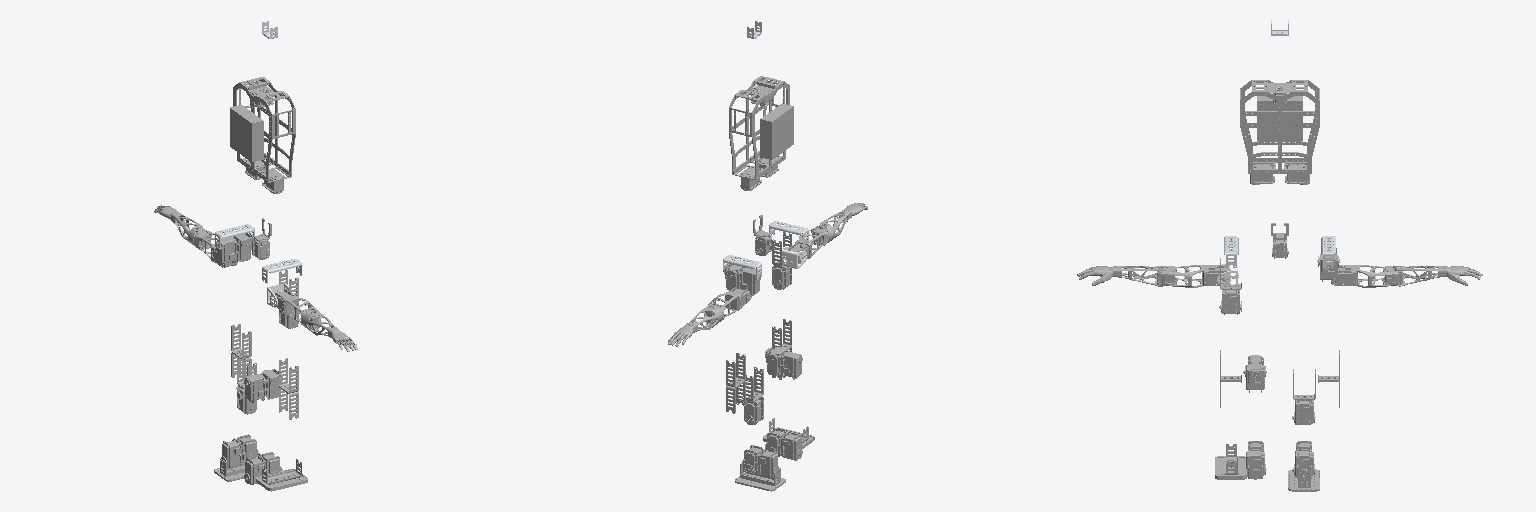
--- Render facts (derived) ---
3 views of the same robot in one strip: view 1: azimuth 30°, elevation 25°; view 2: azimuth 150°, elevation 25°; view 3: azimuth 270°, elevation 25° (orthographic).
Model humanoid with 26 links and 25 joints (12 revolute, 13 fixed), rooted at base_link, posed all joints at 0.
Visible links, largest first — view 1: torso, leg_r_hip_r, leg_l_ankle_p, leg_l_hip_r, leg_r_knee, leg_r_ankle_r, arm_r_elbow, leg_r_ankle_p, arm_r_shou_r, leg_l_knee, leg_l_hip_p, arm_l_elbow; view 2: torso, leg_r_hip_r, leg_l_knee, leg_l_ankle_p, leg_l_hip_p, leg_r_ankle_p, leg_l_hip_r, leg_r_hip_p, arm_l_elbow, arm_l_shou_r, leg_l_ankle_r, arm_r_elbow (+1 smaller); view 3: torso, arm_l_shou_r, arm_r_shou_r, arm_r_elbow, arm_l_elbow, leg_r_ankle_r, leg_r_ankle_p, leg_l_hip_p, leg_r_hip_r, leg_l_ankle_p, leg_r_hip_p, leg_l_ankle_r.
Boxes of the visible links, box(x1,y1,x2,y2) form: torso: box(230, 77, 295, 193); leg_r_hip_r: box(244, 369, 282, 402); leg_l_ankle_p: box(221, 434, 258, 467); leg_l_hip_r: box(216, 233, 253, 265); leg_r_knee: box(279, 358, 298, 419); leg_r_ankle_r: box(256, 459, 307, 491); arm_r_elbow: box(302, 311, 357, 351); leg_r_ankle_p: box(244, 452, 282, 484); arm_r_shou_r: box(274, 290, 320, 329); leg_l_knee: box(231, 324, 251, 378); leg_l_hip_p: box(236, 355, 256, 414); arm_l_elbow: box(154, 205, 203, 244); torso: box(729, 76, 793, 190); leg_r_hip_r: box(765, 347, 802, 379); leg_l_knee: box(726, 353, 745, 413); leg_l_ankle_p: box(741, 445, 778, 477); leg_l_hip_p: box(744, 367, 763, 424); leg_r_ankle_p: box(765, 428, 802, 460); leg_l_hip_r: box(723, 264, 760, 295); leg_r_hip_p: box(772, 232, 791, 289); arm_l_elbow: box(668, 306, 722, 346); arm_l_shou_r: box(704, 287, 751, 324); leg_l_ankle_r: box(735, 463, 785, 491); arm_r_elbow: box(819, 203, 867, 242); torso: box(1240, 80, 1319, 184); arm_l_shou_r: box(1331, 265, 1402, 287); arm_r_shou_r: box(1157, 265, 1228, 287); arm_r_elbow: box(1077, 266, 1166, 286); arm_l_elbow: box(1393, 266, 1482, 286); leg_r_ankle_r: box(1215, 444, 1246, 479); leg_r_ankle_p: box(1245, 441, 1266, 479); leg_l_hip_p: box(1292, 369, 1315, 424); leg_r_hip_r: box(1243, 355, 1266, 392); leg_l_ankle_p: box(1292, 441, 1315, 478); leg_r_hip_p: box(1219, 258, 1241, 314); leg_l_ankle_r: box(1288, 469, 1319, 491).
Bounding box of the posed robot: 0.14 × 1.02 × 1.3 m (x, y, z).
20 mesh visuals loaded from 21 distinct referenced files (20 binary STL); not drawn: 1 (reference not matched to a file when rendering).

The robot description file, URDF, robot "humanoid":
<robot
  name="humanoid">
  <link name="base_link"/>
  <joint name="waist" type="fixed">
    <parent link="base_link"/>
    <child link="torso"/>
    <origin rpy="0 0 0" xyz="0.0235271 0 0.48467"/>
  </joint>
  <link name="torso">
    <inertial>
      <origin
        xyz="-0.0273890624666731 -6.24390539272213E-11 0.0090874604275595"
        rpy="0 0 0" />
      <mass
        value="1.79837714981727" />
      <inertia
        ixx="0.00965569591913053"
        ixy="2.62519057565357E-11"
        ixz="0.000466515313675841"
        iyy="0.00841839017045047"
        iyz="1.1590569581039E-11"
        izz="0.00428669058417288" />
    </inertial>
    <visual>
      <origin
        xyz="0 0 0"
        rpy="0 0 0" />
      <geometry>
        <mesh
          filename="package://meshes/torso.STL" />
      </geometry>
      <material
        name="">
        <color
          rgba="0.752941176470588 0.752941176470588 0.752941176470588 1" />
      </material>
    </visual>
    <collision>
      <origin
        xyz="0 0 0"
        rpy="0 0 0" />
      <geometry>
        <mesh
          filename="package://meshes/torso.STL" />
      </geometry>
    </collision>
  </link>
  <link
    name="head_p">
    <inertial>
      <origin
        xyz="-2.77555756156289E-17 -2.77555756156289E-17 -0.0235358644573578"
        rpy="0 0 0" />
      <mass
        value="0.00919745164566107" />
      <inertia
        ixx="0"
        ixy="0"
        ixz="0"
        iyy="0"
        iyz="0"
        izz="0" />
    </inertial>
    <visual>
      <origin
        xyz="0 0 0"
        rpy="0 0 0" />
      <geometry>
        <mesh
          filename="package://meshes/head_p.STL" />
      </geometry>
      <material
        name="">
        <color
          rgba="0.898039215686275 0.917647058823529 0.929411764705882 1" />
      </material>
    </visual>
    <collision>
      <origin
        xyz="0 0 0"
        rpy="0 0 0" />
      <geometry>
        <mesh
          filename="package://meshes/head_p.STL" />
      </geometry>
    </collision>
  </link>
  <joint
    name="j_head_p"
    type="fixed">
    <origin
      xyz="0.00749999999999998 0 0.154592980337507"
      rpy="-5.40227318867849E-16 3.26570417148563E-16 1.11022302462516E-16" />
    <parent
      link="torso" />
    <child
      link="head_p" />
  </joint>
  <link
    name="head_t">
    <inertial>
      <origin
        xyz="0.000362537622920212 6.79783928278499E-06 0.0434079674333546"
        rpy="0 0 0" />
      <mass
        value="0.250310857747946" />
      <inertia
        ixx="0.000109893254796935"
        ixy="6.15726205395829E-10"
        ixz="-1.29430349863509E-06"
        iyy="0.000109000514641629"
        iyz="9.79402169676494E-08"
        izz="9.33135190800592E-07" />
    </inertial>
    <visual>
      <origin
        xyz="0 0 0"
        rpy="0 0 0" />
      <geometry>
        <mesh
          filename="package://meshes/head_t.STL" />
      </geometry>
      <material
        name="">
        <color
          rgba="0.752941176470588 0.752941176470588 0.752941176470588 1" />
      </material>
    </visual>
    <collision>
      <origin
        xyz="0 0 0"
        rpy="0 0 0" />
      <geometry>
        <mesh
          filename="package://meshes/head_t.STL" />
      </geometry>
    </collision>
  </link>
  <joint
    name="j_head_t"
    type="fixed">
    <origin
      xyz="0 -0.000250000000004302 0"
      rpy="1.98830324825673E-16 -4.37592719611079E-16 -1.11022302462516E-16" />
    <parent
      link="head_p" />
    <child
      link="head_t" />
  </joint>
  <link
    name="leg_r_hip_y">
    <inertial>
      <origin
        xyz="-0.019 6.93889390390723E-18 0.0296849328442002"
        rpy="0 0 0" />
      <mass
        value="0.0310306790400135" />
      <inertia
        ixx="0"
        ixy="0"
        ixz="0"
        iyy="0"
        iyz="0"
        izz="0" />
    </inertial>
    <visual>
      <origin
        xyz="0 0 0"
        rpy="0 0 0" />
      <geometry>
        <mesh
          filename="package://meshes/leg_r_hip_y.STL" />
      </geometry>
      <material
        name="">
        <color
          rgba="0.898039215686275 0.917647058823529 0.929411764705882 1" />
      </material>
    </visual>
    <collision>
      <origin
        xyz="0 0 0"
        rpy="0 0 0" />
      <geometry>
        <mesh
          filename="package://meshes/leg_r_hip_y.STL" />
      </geometry>
    </collision>
  </link>
  <joint
    name="j_leg_r_hip_y"
    type="revolute">
    <origin
      xyz="0 -0.0612500000000002 -0.179371019662496"
      rpy="-3.41396994042176E-16 0 0" />
    <parent
      link="torso" />
    <child
      link="leg_r_hip_y" />
    <axis
      xyz="0 0 -1" />
    <limit effort="6.0" lower="-1.05" upper="1.05" velocity="1.5"/>
  </joint>
  <link
    name="leg_r_hip_r">
    <inertial>
      <origin
        xyz="-0.0199386693707081 8.18688971842077E-05 -0.0148029204359108"
        rpy="0 0 0" />
      <mass
        value="0.327163601832517" />
      <inertia
        ixx="7.62597114711917E-06"
        ixy="-5.58485632325043E-07"
        ixz="-1.06787629028062E-05"
        iyy="0.000186208035995009"
        iyz="-1.51343454864388E-06"
        izz="0.000185497003559403" />
    </inertial>
    <visual>
      <origin
        xyz="0 0 0"
        rpy="0 0 0" />
      <geometry>
        <mesh
          filename="package://meshes/leg_r_hip_r.STL" />
      </geometry>
      <material
        name="">
        <color
          rgba="0.752941176470588 0.752941176470588 0.752941176470588 1" />
      </material>
    </visual>
    <collision>
      <origin
        xyz="0 0 0"
        rpy="0 0 0" />
      <geometry>
        <mesh
          filename="package://meshes/leg_r_hip_r.STL" />
      </geometry>
    </collision>
  </link>
  <joint
    name="j_leg_r_hip_r"
    type="revolute">
    <origin
      xyz="0.000499999999999945 0 0"
      rpy="1.13124042283043E-16 -2.61242557992875E-16 6.50156804127527E-17" />
    <parent
      link="leg_r_hip_y" />
    <child
      link="leg_r_hip_r" />
    <axis
      xyz="1 0 0" />
    <limit effort="8.4" lower="-1.05" upper="1.05" velocity="1.5"/> 
  </joint>
  <link
    name="leg_r_hip_p">
    <inertial>
      <origin
        xyz="-4.73613010784357E-05 0.000146666146782187 -0.10142537495828"
        rpy="0 0 0" />
      <mass
        value="0.187828254323874" />
      <inertia
        ixx="9.89657264075222E-05"
        ixy="-1.56062320516749E-09"
        ixz="2.1852497720039E-07"
        iyy="9.65248837003217E-05"
        iyz="1.78170551469187E-06"
        izz="2.45902731639314E-06" />
    </inertial>
    <visual>
      <origin
        xyz="0 0 0"
        rpy="0 0 0" />
      <geometry>
        <mesh
          filename="package://meshes/leg_r_hip_p.STL" />
      </geometry>
      <material
        name="">
        <color
          rgba="0.752941176470588 0.752941176470588 0.752941176470588 1" />
      </material>
    </visual>
    <collision>
      <origin
        xyz="0 0 0"
        rpy="0 0 0" />
      <geometry>
        <mesh
          filename="package://meshes/leg_r_hip_p.STL" />
      </geometry>
    </collision>
  </link>
  <joint
    name="j_leg_r_hip_p"
    type="revolute">
    <origin
      xyz="0 0 0"
      rpy="-1.13124042283043E-16 2.15500304946813E-16 -1.04264380931413E-17" />
    <parent
      link="leg_r_hip_r" />
    <child
      link="leg_r_hip_p" />
    <axis
      xyz="0 1 0" />
    <limit effort="8.4" lower="-1.57" upper="1.57" velocity="1.5"/>
  </joint>
  <link
    name="leg_r_knee">
    <inertial>
      <origin
        xyz="6.10622663543836E-16 4.16333634234434E-17 -0.0720000000000057"
        rpy="0 0 0" />
      <mass
        value="0.0471244364483381" />
      <inertia
        ixx="3.47240331970278E-05"
        ixy="2.08114259181133E-24"
        ixz="6.38005899850245E-21"
        iyy="3.47240295022833E-05"
        iyz="-1.13268007040326E-08"
        izz="3.69474441842752E-12" />
    </inertial>
    <visual>
      <origin
        xyz="0 0 0"
        rpy="0 0 0" />
      <geometry>
        <mesh
          filename="package://meshes/leg_r_knee.STL" />
      </geometry>
      <material
        name="">
        <color
          rgba="0.752941176470588 0.752941176470588 0.752941176470588 1" />
      </material>
    </visual>
    <collision>
      <origin
        xyz="0 0 0"
        rpy="0 0 0" />
      <geometry>
        <mesh
          filename="package://meshes/leg_r_knee.STL" />
      </geometry>
    </collision>
  </link>
  <joint
    name="j_leg_r_knee"
    type="revolute">
    <origin
      xyz="0 0 -0.12650000000002"
      rpy="-1.66533453693773E-16 -2.81587712202917E-16 4.90950377141293E-16" />
    <parent
      link="leg_r_hip_p" />
    <child
      link="leg_r_knee" />
    <axis
      xyz="0 1 0" />
    <limit effort="8.4" lower="-1.57" upper="1.57" velocity="1.5"/>
  </joint>
  <link
    name="leg_r_ankle_p">
    <inertial>
      <origin
        xyz="-0.019967775832417 8.5312065049449E-05 0.0148115624874952"
        rpy="0 0 0" />
      <mass
        value="0.326972712808706" />
      <inertia
        ixx="7.58393095523023E-06"
        ixy="-5.32557584809135E-07"
        ixz="1.05552686931231E-05"
        iyy="0.00018575582149946"
        iyz="1.51216245176916E-06"
        izz="0.000185086455382627" />
    </inertial>
    <visual>
      <origin
        xyz="0 0 0"
        rpy="0 0 0" />
      <geometry>
        <mesh
          filename="package://meshes/leg_r_ankle_p.STL" />
      </geometry>
      <material
        name="">
        <color
          rgba="0.752941176470588 0.752941176470588 0.752941176470588 1" />
      </material>
    </visual>
    <collision>
      <origin
        xyz="0 0 0"
        rpy="0 0 0" />
      <geometry>
        <mesh
          filename="package://meshes/leg_r_ankle_p.STL" />
      </geometry>
    </collision>
  </link>
  <joint
    name="j_leg_r_ankle_p"
    type="revolute">
    <origin
      xyz="0 0 -0.144000000000011"
      rpy="2.77555756156288E-17 9.37952628792816E-16 -4.34517316998388E-16" />
    <parent
      link="leg_r_knee" />
    <child
      link="leg_r_ankle_p" />
    <axis
      xyz="0 -1 0" />
    <limit effort="8.4" lower="-1.57" upper="1.57" velocity="1.5"/>
  </joint>
  <link
    name="leg_r_ankle_r">
    <inertial>
      <origin
        xyz="-0.0195052351132241 2.08166817117217E-17 -0.035336618625496"
        rpy="0 0 0" />
      <mass
        value="0.08603420971545" />
      <inertia
        ixx="1.55034338934218E-06"
        ixy="1.67488937898155E-23"
        ixz="-1.4360711995626E-09"
        iyy="1.55034471956392E-06"
        iyz="1.80816499723242E-20"
        izz="1.33022174596314E-12" />
    </inertial>
    <visual>
      <origin
        xyz="0 0 0"
        rpy="0 0 0" />
      <geometry>
        <mesh
          filename="package://meshes/leg_r_ankle_r.STL" />
      </geometry>
      <material
        name="">
        <color
          rgba="0.752941176470588 0.752941176470588 0.752941176470588 1" />
      </material>
    </visual>
    <collision>
      <origin
        xyz="0 0 0"
        rpy="0 0 0" />
      <geometry>
        <mesh
          filename="package://meshes/leg_r_ankle_r.STL" />
      </geometry>
    </collision>
  </link>
  <joint
    name="j_leg_r_ankle_r"
    type="revolute">
    <origin
      xyz="0 0 0"
      rpy="2.4980018054066E-16 -1.39663998698079E-15 -5.70601140040284E-17" />
    <parent
      link="leg_r_ankle_p" />
    <child
      link="leg_r_ankle_r" />
    <axis
      xyz="-1 0 0" />
    <limit effort="8.4" lower="-1.57" upper="1.57" velocity="1.5"/>
  </joint>

  <link
    name="leg_r_foot">
    <inertial>
      <origin
        xyz="0 0 0"
        rpy="0 0 0" />
      <mass
        value="0" />
      <inertia
        ixx="0"
        ixy="0"
        ixz="0"
        iyy="0"
        iyz="0"
        izz="0" />
    </inertial>
  </link>
  <joint
    name="j_leg_r_foot"
    type="fixed">
    <origin
      xyz="-0.0195 0 -0.044"
      rpy="0 0 0" />
    <parent
      link="leg_r_ankle_r" />
    <child
      link="leg_r_foot" />
  </joint>

  <link
    name="leg_l_hip_y">
    <inertial>
      <origin
        xyz="-0.019 0 0.0296849328442002"
        rpy="0 0 0" />
      <mass
        value="0.0310306790400135" />
      <inertia
        ixx="0"
        ixy="0"
        ixz="0"
        iyy="0"
        iyz="0"
        izz="0" />
    </inertial>
    <visual>
      <origin
        xyz="0 0 0"
        rpy="0 0 0" />
      <geometry>
        <mesh
          filename="package://meshes/leg_l_hip_y.STL" />
      </geometry>
      <material
        name="">
        <color
          rgba="0.898039215686275 0.917647058823529 0.929411764705882 1" />
      </material>
    </visual>
    <collision>
      <origin
        xyz="0 0 0"
        rpy="0 0 0" />
      <geometry>
        <mesh
          filename="package://meshes/leg_l_hip_y.STL" />
      </geometry>
    </collision>
  </link>
  <joint
    name="j_leg_l_hip_y"
    type="revolute">
    <origin
      xyz="0 0.06125 -0.179371019662496"
      rpy="-3.41725588386687E-16 1.40441582496151E-19 -4.79463341027122E-35" />
    <parent
      link="torso" />
    <child
      link="leg_l_hip_y" />
    <axis
      xyz="0 0 -1" />
    <limit effort="6.0" lower="-1.57" upper="1.57" velocity="1.5"/>
  </joint>
  <link
    name="leg_l_hip_r">
    <inertial>
      <origin
        xyz="-0.0199386693707081 8.18688971842285E-05 -0.0148029204359109"
        rpy="0 0 0" />
      <mass
        value="0.327163601832517" />
      <inertia
        ixx="7.62597114711925E-06"
        ixy="-5.58485632324876E-07"
        ixz="-1.06787629028065E-05"
        iyy="0.00018620803599501"
        iyz="-1.51343454864386E-06"
        izz="0.000185497003559403" />
    </inertial>
    <visual>
      <origin
        xyz="0 0 0"
        rpy="0 0 0" />
      <geometry>
        <mesh
          filename="package://meshes/leg_l_hip_r.STL" />
      </geometry>
      <material
        name="">
        <color
          rgba="0.752941176470588 0.752941176470588 0.752941176470588 1" />
      </material>
    </visual>
    <collision>
      <origin
        xyz="0 0 0"
        rpy="0 0 0" />
      <geometry>
        <mesh
          filename="package://meshes/leg_l_hip_r.STL" />
      </geometry>
    </collision>
  </link>
  <joint
    name="j_leg_l_hip_r"
    type="revolute">
    <origin
      xyz="0.000499999999999973 0 0"
      rpy="1.06513742723647E-16 -2.61266749644178E-16 5.93124751222884E-17" />
    <parent
      link="leg_l_hip_y" />
    <child
      link="leg_l_hip_r" />
    <axis
      xyz="1 0 0" />
    <limit effort="8.4" lower="-1.57" upper="1.57" velocity="1.5"/>
  </joint>
  <link
    name="leg_l_hip_p">
    <inertial>
      <origin
        xyz="-4.73613010784357E-05 0.00014666614678216 -0.10142537495828"
        rpy="0 0 0" />
      <mass
        value="0.187828254323874" />
      <inertia
        ixx="9.89657264075226E-05"
        ixy="-1.56062320517169E-09"
        ixz="2.18524977200376E-07"
        iyy="9.65248837003221E-05"
        iyz="1.78170551469195E-06"
        izz="2.45902731639314E-06" />
    </inertial>
    <visual>
      <origin
        xyz="0 0 0"
        rpy="0 0 0" />
      <geometry>
        <mesh
          filename="package://meshes/leg_l_hip_p.STL" />
      </geometry>
      <material
        name="">
        <color
          rgba="0.752941176470588 0.752941176470588 0.752941176470588 1" />
      </material>
    </visual>
    <collision>
      <origin
        xyz="0 0 0"
        rpy="0 0 0" />
      <geometry>
        <mesh
          filename="package://meshes/leg_l_hip_p.STL" />
      </geometry>
    </collision>
  </link>
  <joint
    name="j_leg_l_hip_p"
    type="revolute">
    <origin
      xyz="0 0 0"
      rpy="-1.22687743945067E-16 1.9173736902261E-16 7.3408853928096E-17" />
    <parent
      link="leg_l_hip_r" />
    <child
      link="leg_l_hip_p" />
    <axis
      xyz="0 1 0" />
    <limit effort="8.4" lower="-1.57" upper="1.57" velocity="1.5"/>
  </joint>
  <link
    name="leg_l_knee">
    <inertial>
      <origin
        xyz="6.38378239159465E-16 2.77555756156289E-17 -0.0720000000000058"
        rpy="0 0 0" />
      <mass
        value="0.047124436448338" />
      <inertia
        ixx="3.47240331970279E-05"
        ixy="8.50467151160005E-23"
        ixz="-1.2053958230897E-20"
        iyy="3.47240295022834E-05"
        iyz="-1.13268007039894E-08"
        izz="3.69474441839934E-12" />
    </inertial>
    <visual>
      <origin
        xyz="0 0 0"
        rpy="0 0 0" />
      <geometry>
        <mesh
          filename="package://meshes/leg_l_knee.STL" />
      </geometry>
      <material
        name="">
        <color
          rgba="0.752941176470588 0.752941176470588 0.752941176470588 1" />
      </material>
    </visual>
    <collision>
      <origin
        xyz="0 0 0"
        rpy="0 0 0" />
      <geometry>
        <mesh
          filename="package://meshes/leg_l_knee.STL" />
      </geometry>
    </collision>
  </link>
  <joint
    name="j_leg_l_knee"
    type="revolute">
    <origin
      xyz="0 0 -0.1265"
      rpy="-3.57980314686197E-17 -3.19189119579732E-16 4.53547757052351E-16" />
    <parent
      link="leg_l_hip_p" />
    <child
      link="leg_l_knee" />
    <axis
      xyz="0 1 0" />
    <limit effort="8.4" lower="-1.57" upper="1.57" velocity="1.5"/>
  </joint>
  <link
    name="leg_l_ankle_p">
    <inertial>
      <origin
        xyz="-0.0199677758324171 8.53120650493866E-05 0.0148115624874952"
        rpy="0 0 0" />
      <mass
        value="0.326972712808706" />
      <inertia
        ixx="7.58393095523036E-06"
        ixy="-5.32557584809384E-07"
        ixz="1.05552686931239E-05"
        iyy="0.000185755821499461"
        iyz="1.51216245176923E-06"
        izz="0.000185086455382628" />
    </inertial>
    <visual>
      <origin
        xyz="0 0 0"
        rpy="0 0 0" />
      <geometry>
        <mesh
          filename="package://meshes/leg_l_ankle_p.STL" />
      </geometry>
      <material
        name="">
        <color
          rgba="0.752941176470588 0.752941176470588 0.752941176470588 1" />
      </material>
    </visual>
    <collision>
      <origin
        xyz="0 0 0"
        rpy="0 0 0" />
      <geometry>
        <mesh
          filename="package://meshes/leg_l_ankle_p.STL" />
      </geometry>
    </collision>
  </link>
  <joint
    name="j_leg_l_ankle_p"
    type="revolute">
    <origin
      xyz="0 0 -0.144000000000011"
      rpy="-3.64033007199883E-16 9.99200722162641E-16 -4.19735632408962E-16" />
    <parent
      link="leg_l_knee" />
    <child
      link="leg_l_ankle_p" />
    <axis
      xyz="0 -1 0" />
    <limit effort="8.4" lower="-1.57" upper="1.57" velocity="1.5"/>
  </joint>
  <link
    name="leg_l_ankle_r">
    <inertial>
      <origin
        xyz="-0.0195052351132241 2.77555756156289E-17 -0.0353366186254961"
        rpy="0 0 0" />
      <mass
        value="0.08603420971545" />
      <inertia
        ixx="1.55034338934221E-06"
        ixy="-4.26949572354957E-24"
        ixz="-1.43607119957663E-09"
        iyy="1.55034471956396E-06"
        iyz="-4.6092314035672E-21"
        izz="1.33022174598911E-12" />
    </inertial>
    <visual>
      <origin
        xyz="0 0 0"
        rpy="0 0 0" />
      <geometry>
        <mesh
          filename="package://meshes/leg_l_ankle_r.STL" />
      </geometry>
      <material
        name="">
        <color
          rgba="0.752941176470588 0.752941176470588 0.752941176470588 1" />
      </material>
    </visual>
    <collision>
      <origin
        xyz="0 0 0"
        rpy="0 0 0" />
      <geometry>
        <mesh
          filename="package://meshes/leg_l_ankle_r.STL" />
      </geometry>
    </collision>
  </link>
  <joint
    name="j_leg_l_ankle_r"
    type="revolute">
    <origin
      xyz="0 0 0"
      rpy="2.4980018054066E-16 -1.02028117652055E-15 -1.7762186294493E-18" />
    <parent
      link="leg_l_ankle_p" />
    <child
      link="leg_l_ankle_r" />
    <axis
      xyz="-1 0 0" />
    <limit effort="8.4" lower="-1.57" upper="1.57" velocity="1.5"/>
  </joint>
  <link
    name="leg_l_foot">
    <inertial>
      <origin
        xyz="0 0 0"
        rpy="0 0 0" />
      <mass
        value="0" />
      <inertia
        ixx="0"
        ixy="0"
        ixz="0"
        iyy="0"
        iyz="0"
        izz="0" />
    </inertial>
  </link>
  <joint
    name="j_leg_l_foot"
    type="fixed">
    <origin
      xyz="-0.0195 0 -0.044"
      rpy="0 0 0" />
    <parent
      link="leg_l_ankle_r" />
    <child
      link="leg_l_foot" />
  </joint>
  <link
    name="arm_r_shou_p">
    <inertial>
      <origin
        xyz="-0.00971572315740127 0.0232636812439506 0.00248658187310814"
        rpy="0 0 0" />
      <mass
        value="0.0265049875032748" />
      <inertia
        ixx="0"
        ixy="0"
        ixz="0"
        iyy="0"
        iyz="0"
        izz="0" />
    </inertial>
    <visual>
      <origin
        xyz="0 0 0"
        rpy="0 0 0" />
      <geometry>
        <mesh
          filename="package://meshes/arm_r_shou_p.STL" />
      </geometry>
      <material
        name="">
        <color
          rgba="1 1 1 1" />
      </material>
    </visual>
    <collision>
      <origin
        xyz="0 0 0"
        rpy="0 0 0" />
      <geometry>
        <mesh
          filename="package://meshes/arm_r_shou_p.STL" />
      </geometry>
    </collision>
  </link>
  <joint
    name="j_arm_r_shou_p"
    type="fixed">
    <origin
      xyz="0 -0.141338919000003 0.0828789803374983"
      rpy="-3.41396994042176E-16 0 0" />
    <parent
      link="torso" />
    <child
      link="arm_r_shou_p" />
  </joint>
  <link
    name="arm_r_shou_r">
    <inertial>
      <origin
        xyz="-0.00693976228444068 6.95136029715826E-06 -0.0644461862877316"
        rpy="0 0 0" />
      <mass
        value="0.233846079600851" />
      <inertia
        ixx="0.000818368072836307"
        ixy="-4.28237606045908E-09"
        ixz="3.48069980029283E-05"
        iyy="0.000820992782660462"
        iyz="1.75677549408184E-07"
        izz="4.45058683602632E-06" />
    </inertial>
    <visual>
      <origin
        xyz="0 0 0"
        rpy="0 0 0" />
      <geometry>
        <mesh
          filename="package://meshes/arm_r_shou_r.STL" />
      </geometry>
      <material
        name="">
        <color
          rgba="0.752941176470588 0.752941176470588 0.752941176470588 1" />
      </material>
    </visual>
    <collision>
      <origin
        xyz="0 0 0"
        rpy="0 0 0" />
      <geometry>
        <mesh
          filename="package://meshes/arm_r_shou_r.STL" />
      </geometry>
    </collision>
  </link>
  <joint
    name="j_arm_r_shou_r"
    type="fixed">
    <origin
      xyz="-0.000104304124999982 0 0"
      rpy="-1.5707963 0 0" />
    <parent
      link="arm_r_shou_p" />
    <child
      link="arm_r_shou_r" />
  </joint>
  <link
    name="arm_r_elbow">
    <inertial>
      <origin
        xyz="-0.00512670543361113 -0.00677518273179854 -0.105559166000223"
        rpy="0 0 0" />
      <mass
        value="0.0660036002352666" />
      <inertia
        ixx="0.000169149561079679"
        ixy="4.66529988051378E-07"
        ixz="1.33012462127972E-05"
        iyy="0.000169988973199959"
        iyz="-5.92548862075287E-06"
        izz="1.25507514782134E-06" />
    </inertial>
    <visual>
      <origin
        xyz="0 0 0"
        rpy="0 0 0" />
      <geometry>
        <mesh
          filename="package://meshes/arm_r_elbow.STL" />
      </geometry>
      <material
        name="">
        <color
          rgba="0.752941176470588 0.752941176470588 0.752941176470588 1" />
      </material>
    </visual>
    <collision>
      <origin
        xyz="0 0 0"
        rpy="0 0 0" />
      <geometry>
        <mesh
          filename="package://meshes/arm_r_elbow.STL" />
      </geometry>
    </collision>
  </link>
  <joint
    name="j_arm_r_elbow"
    type="fixed">
    <origin
      xyz="-0.00416077518005581 0.000250000000000285 -0.155750000000015"
      rpy="1.8590512822718E-16 1.07986536379556E-12 5.63893510830468E-15" />
    <parent
      link="arm_r_shou_r" />
    <child
      link="arm_r_elbow" />
  </joint>

  <link
    name="arm_r_hand">
    <inertial>
      <origin
        xyz="0 0 0"
        rpy="0 0 0" />
      <mass
        value="0" />
      <inertia
        ixx="0"
        ixy="0"
        ixz="0"
        iyy="0"
        iyz="0"
        izz="0" />
    </inertial>
  </link>
  <joint
    name="j_arm_r_hand"
    type="fixed">
    <origin
      xyz="0 0 -0.211"
      rpy="0 0 0" />
    <parent
      link="arm_r_elbow" />
    <child
      link="arm_r_hand" />
  </joint>

  <link
    name="arm_l_shou_p">
    <inertial>
      <origin
        xyz="-0.0097157471996559 -0.0232636988074812 0.00248650683809079"
        rpy="0 0 0" />
      <mass
        value="0.0265052286624278"/>
      <inertia
        ixx="0"
        ixy="0"
        ixz="0"
        iyy="0"
        iyz="0"
        izz="0" />
    </inertial>
    <visual>
      <origin
        xyz="0 0 0"
        rpy="0 0 0" />
      <geometry>
        <mesh
          filename="package://meshes/arm_l_shou_p.STL" />
      </geometry>
      <material
        name="">
        <color
          rgba="1 1 1 1" />
      </material>
    </visual>
    <collision>
      <origin
        xyz="0 0 0"
        rpy="0 0 0" />
      <geometry>
        <mesh
          filename="package://meshes/arm_l_shou_p.STL" />
      </geometry>
    </collision>
  </link>
  <joint
    name="j_arm_l_shou_p"
    type="fixed">
    <origin
      xyz="0 0.141338919000003 0.0828789803374986"
      rpy="-3.41396994042176E-16 0 0" />
    <parent
      link="torso" />
    <child
      link="arm_l_shou_p" />
  </joint>
  <link
    name="arm_l_shou_r">
    <inertial>
      <origin
        xyz="-0.00693976228444099 6.95136013592612E-06 -0.064446186288791"
        rpy="0 0 0" />
      <mass
        value="0.233846079603485" />
      <inertia
        ixx="0.000818368072859065"
        ixy="-4.28237595601569E-09"
        ixz="3.48069980030393E-05"
        iyy="0.000820992782683196"
        iyz="1.7567754639665E-07"
        izz="4.45058683600802E-06" />
    </inertial>
    <visual>
      <origin
        xyz="0 0 0"
        rpy="0 0 0" />
      <geometry>
        <mesh
          filename="package://meshes/arm_l_shou_r.STL" />
      </geometry>
      <material
        name="">
        <color
          rgba="0.752941176470588 0.752941176470588 0.752941176470588 1" />
      </material>
    </visual>
    <collision>
      <origin
        xyz="0 0 0"
        rpy="0 0 0" />
      <geometry>
        <mesh
          filename="package://meshes/arm_l_shou_r.STL" />
      </geometry>
    </collision>
  </link>
  <joint
    name="j_arm_l_shou_r"
    type="fixed">
    <origin
      xyz="0 0 0"
      rpy="1.5707963 0 0" />
    <parent
      link="arm_l_shou_p" />
    <child
      link="arm_l_shou_r" />
  </joint>
  <link
    name="arm_l_elbow">
    <inertial>
      <origin
        xyz="-0.00512713985368948 0.00677513078810973 -0.105558133392576"
        rpy="0 0 0" />
      <mass
        value="0.0660042396649519" />
      <inertia
        ixx="0.000169152316204233"
        ixy="-4.66529921444557E-07"
        ixz="1.33030657569407E-05"
        iyy="0.000169992050899239"
        iyz="5.92477580349958E-06"
        izz="1.25529081427723E-06" />
    </inertial>
    <visual>
      <origin
        xyz="0 0 0"
        rpy="0 0 0" />
      <geometry>
        <mesh
          filename="package://meshes/arm_l_elbow.STL" />
      </geometry>
      <material
        name="">
        <color
          rgba="0.752941176470588 0.752941176470588 0.752941176470588 1" />
      </material>
    </visual>
    <collision>
      <origin
        xyz="0 0 0"
        rpy="0 0 0" />
      <geometry>
        <mesh
          filename="package://meshes/arm_l_elbow.STL" />
      </geometry>
    </collision>
  </link>
  <joint
    name="j_arm_l_elbow"
    type="fixed">
    <origin
      xyz="-0.00416077518006452 0.000250000000001332 -0.15575000000001"
      rpy="0 0 -8.09940774021887E-13" />
    <parent
      link="arm_l_shou_r" />
    <child
      link="arm_l_elbow" />
  </joint>
  <link
    name="arm_l_hand">
    <inertial>
      <origin
        xyz="0 0 0"
        rpy="0 0 0" />
      <mass
        value="0" />
      <inertia
        ixx="0"
        ixy="0"
        ixz="0"
        iyy="0"
        iyz="0"
        izz="0" />
    </inertial>
  </link>
  <joint
    name="j_arm_l_hand"
    type="fixed">
    <origin
      xyz="0 0 -0.211"
      rpy="0 0 0" />
    <parent
      link="arm_l_elbow" />
    <child
      link="arm_l_hand" />
  </joint>
</robot>
